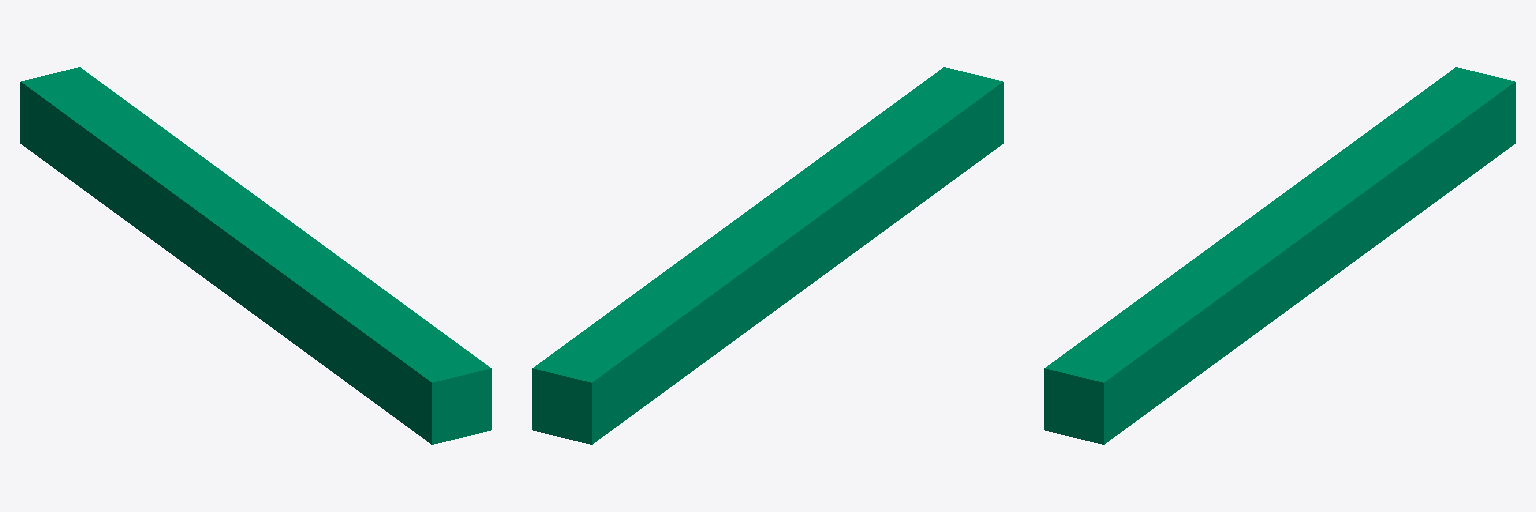
The robot description file, URDF, robot "rp_arm":
<?xml version="1.0"?>
<robot name="rp_arm">
  <link name="base">
    <inertial>
      <mass value="1"/><inertia ixx="0.1" ixy="0" ixz="0" iyy="0.1" iyz="0" izz="0.1"/>
    </inertial>
  </link>
  <link name="boom">
    <inertial>
      <origin xyz="0.25 0 0"/><mass value="1"/>
      <inertia ixx="0.1" ixy="0" ixz="0" iyy="0.1" iyz="0" izz="0.1"/>
    </inertial>
  </link>
  <link name="tool">
    <inertial>
      <origin xyz="0.125 -0.0625 0.03125"/><mass value="0.5"/>
      <inertia ixx="0.1" ixy="0" ixz="0" iyy="0.1" iyz="0" izz="0.1"/>
    </inertial>
    <visual name="display"><geometry><box size="0.24 0.02 0.02"/></geometry></visual>
    <collision name="marker">
      <origin xyz="0.125 -0.0625 0.03125"/><geometry><sphere radius="0.03125"/></geometry>
    </collision>
  </link>
  <joint name="yaw" type="revolute">
    <parent link="base"/><child link="boom"/>
    <origin xyz="0.25 -0.5 0.125"/><axis xyz="0 0 1"/>
    <limit lower="-1.5707963267948966" upper="2.0943951023931953" effort="12" velocity="3"/>
  </joint>
  <joint name="slide" type="prismatic">
    <parent link="boom"/><child link="tool"/>
    <origin xyz="0.5 0 0" rpy="0 0 1.5707963267948966"/><axis xyz="1 0 0"/>
    <limit lower="-0.1" upper="0.25" effort="8" velocity="1"/>
  </joint>
</robot>

--- What the picture shows (computed from the rendered views, not written in the file) ---
The picture shows the robot from 3 angles, left to right: view 1: azimuth 30°, elevation 25°; view 2: azimuth 150°, elevation 25°; view 3: azimuth 330°, elevation 25°; orthographic projection.
Robot: rp_arm — 3 links, 2 joints (1 revolute, 1 prismatic); root link base; default pose: all joints at 0.
Visible links, largest first — view 1: tool; view 2: tool; view 3: tool.
Boxes of the visible links, x1,y1,x2,y2 form: tool: (20, 67, 491, 444); tool: (532, 67, 1003, 444); tool: (1044, 67, 1515, 444).
Bounding box of the posed robot: 0.02 × 0.24 × 0.02 m (x, y, z).
Geometry: primitives only (box / cylinder / sphere), no mesh files.
